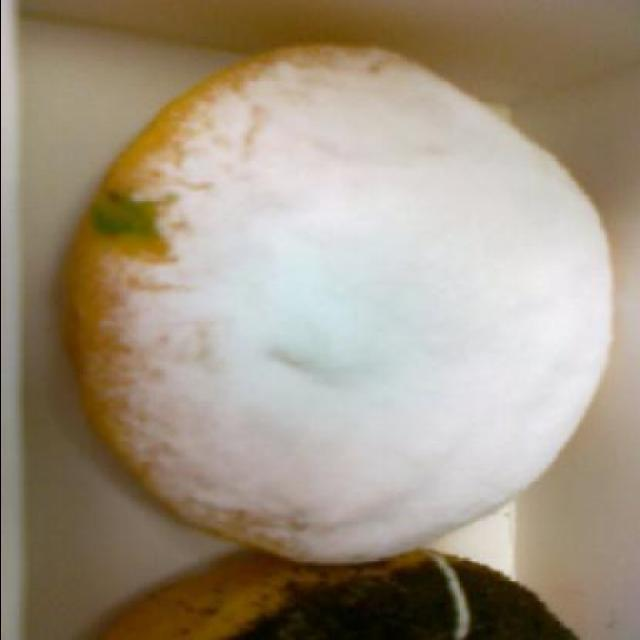Donuts: (7, 31, 627, 640)
